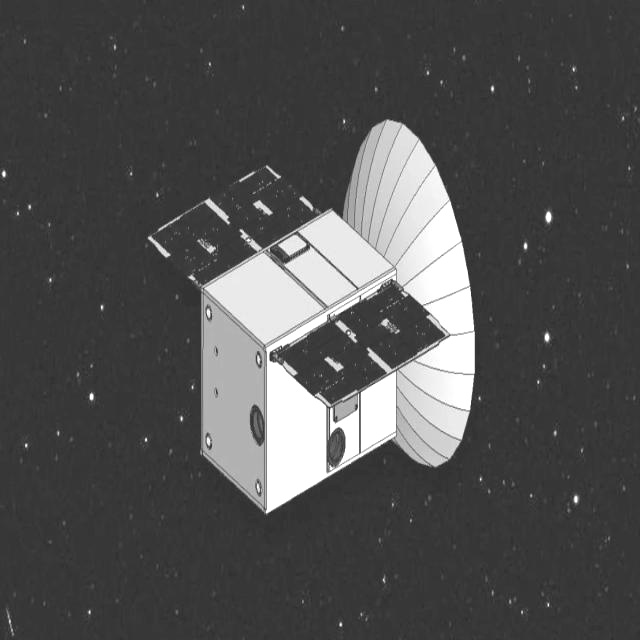medium_debris: (136, 108, 477, 528)
